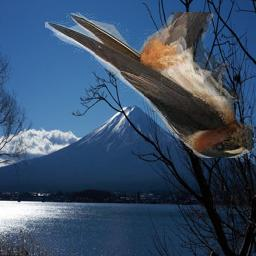Swallow: (46, 12, 255, 158)
